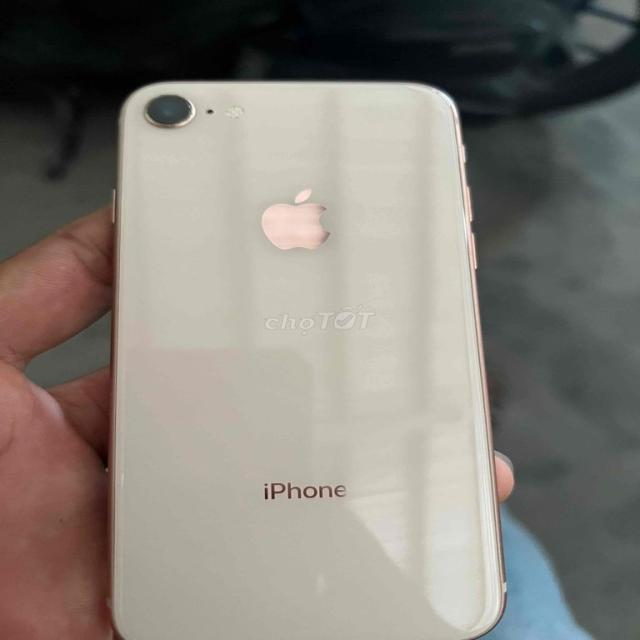scratch: (145, 91, 204, 136)
